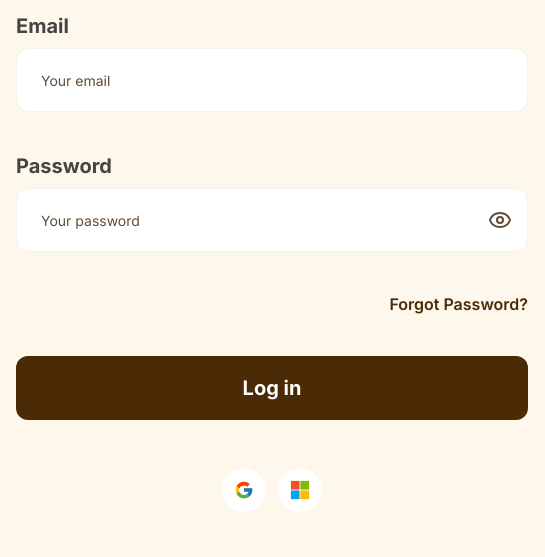
Test: LoginForm › shows validation error for invalid email
The image size is (545, 557).
Type "invalid-email" into the field labelled "Email" at [272, 80], box [16,48,528,112]
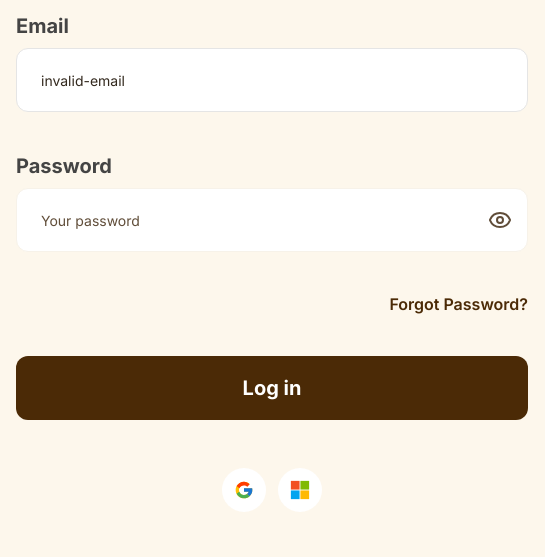
Click the button "Log in" at [272, 388], box [16,356,528,420]
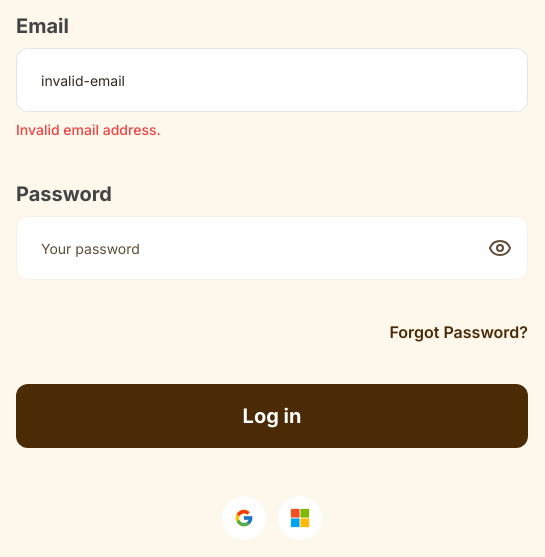
Now the text "Invalid email address." is shown, box [16,121,161,138]
